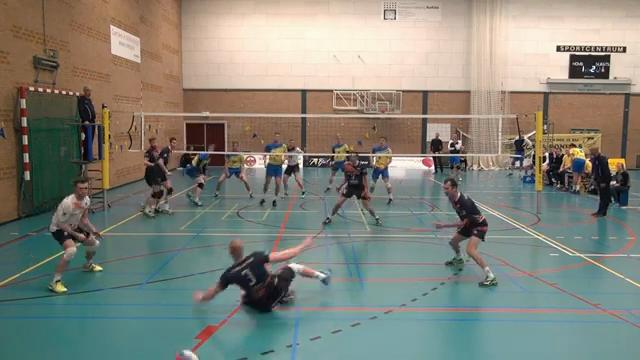difesa: (188, 233, 332, 312)
